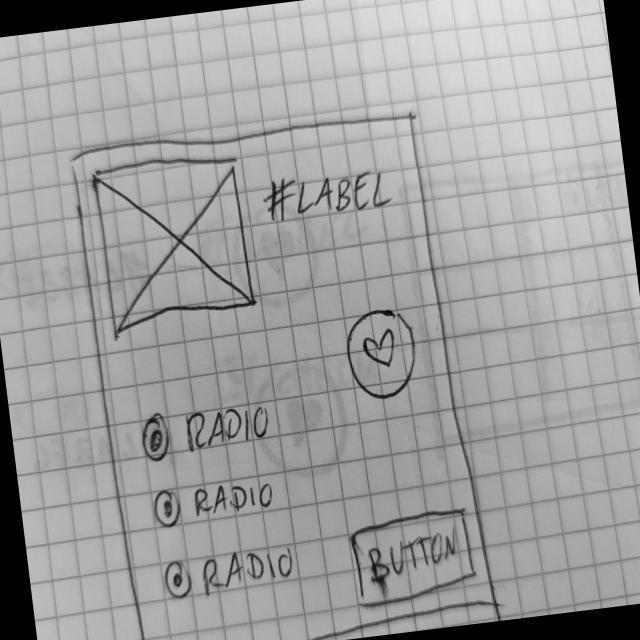button: (344, 506, 481, 613)
container: (66, 102, 504, 640)
icon-button: (340, 303, 425, 407)
image: (89, 146, 259, 337)
label: (259, 159, 397, 230)
radio: (137, 397, 174, 467), (162, 544, 196, 605), (149, 473, 184, 531)
